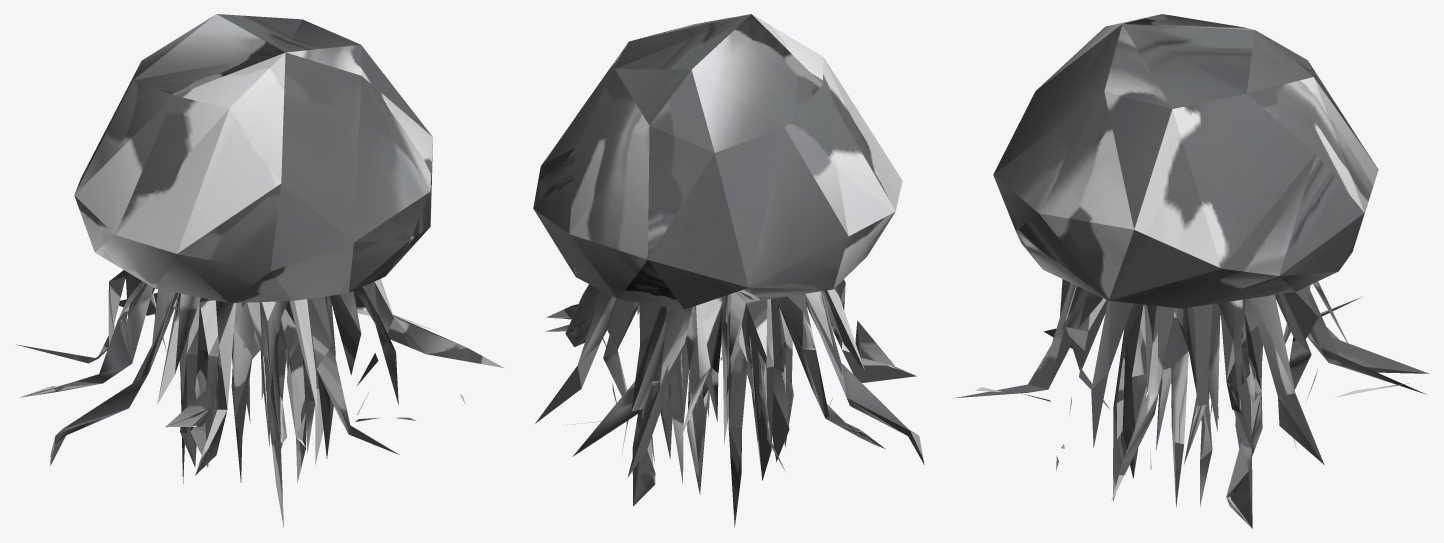
File: medusa.fbx
3 views of the same model, side by side, from view 1: azimuth 30°, elevation 25°; view 2: azimuth 150°, elevation 25°; view 3: azimuth 270°, elevation 25° (orthographic). The views are drawn at different scales.
Visible parts, largest first — view 1: temp; view 2: temp; view 3: temp.
Part boxes in pixels (x1,y1,x2,y2): temp: [16, 14, 503, 527]; temp: [533, 14, 924, 527]; temp: [954, 14, 1429, 528].
Size of the model in its own units: 174 by 187 by 168.
